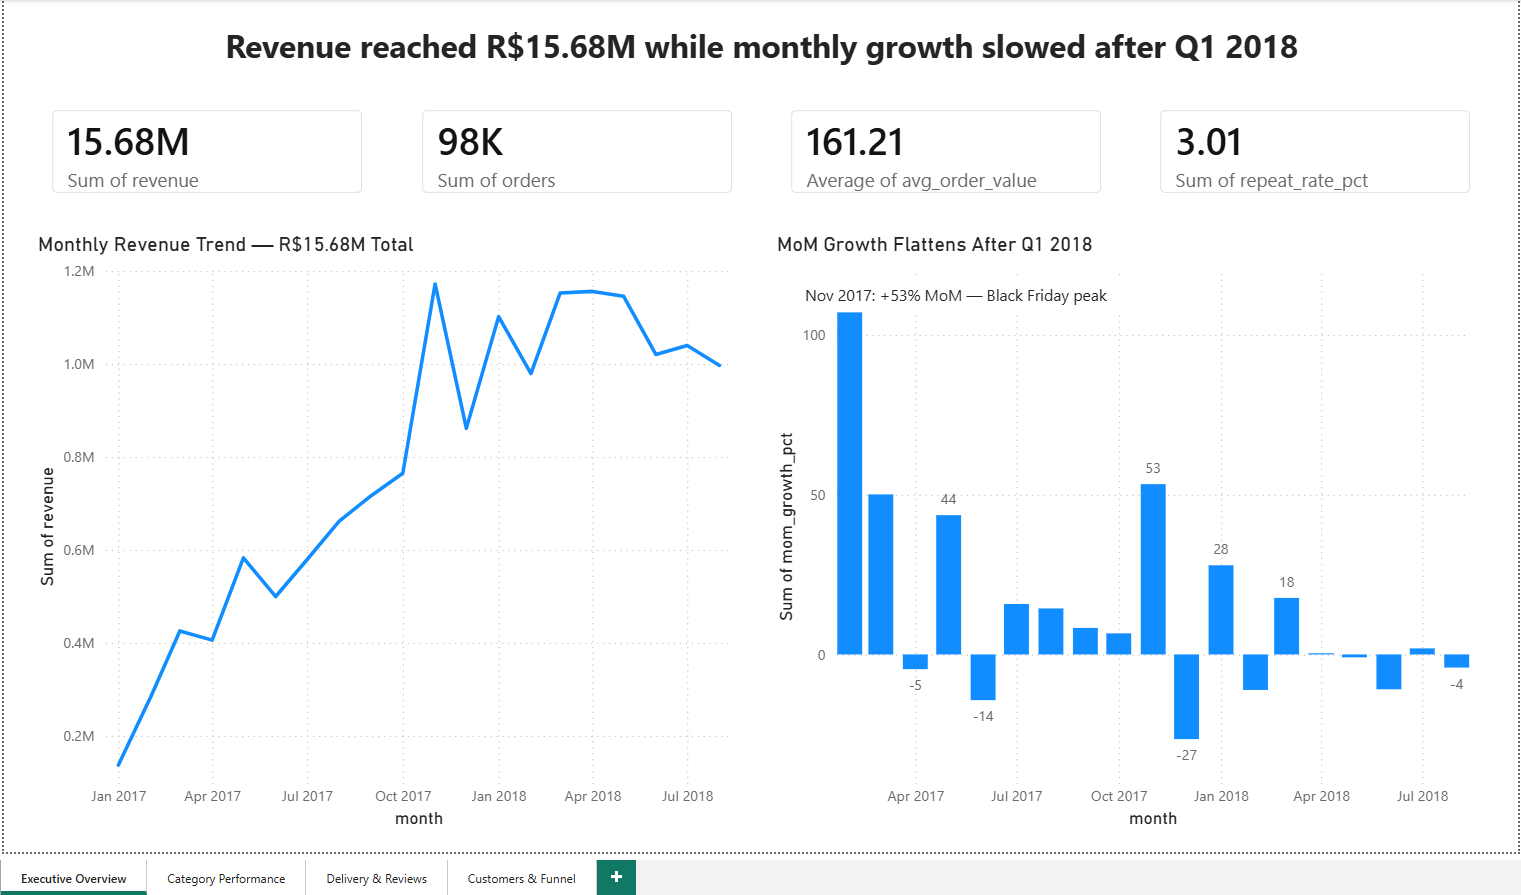

The dashboard page shown, as its layout file describes it:
{"tool":"powerbi","page":{"name":"Executive Overview","canvas":[1280,720],"ordinal":0},"visuals":[{"type":"cardVisual","fields":{"Data":["Sum(monthly_revenue.revenue)"]},"box":[24,76,296,104],"z":0},{"type":"cardVisual","fields":{"Data":["Sum(monthly_revenue.orders)"]},"box":[336,76,296,104],"z":1000},{"type":"cardVisual","fields":{"Data":["Avg(monthly_revenue.avg_order_value)"]},"box":[648,76,296,104],"z":2000},{"type":"cardVisual","fields":{"Data":["Sum(repeat_rate.repeat_rate_pct)"]},"box":[960,76,296,104],"z":3000},{"type":"lineChart","title":"Monthly Revenue Trend — R$15.68M Total","fields":{"Y":["Sum(monthly_revenue.revenue)"],"Category":["monthly_revenue.month"]},"box":[24,196,608,508],"z":4000},{"type":"clusteredColumnChart","title":"MoM Growth Flattens After Q1 2018","fields":{"Y":["Sum(monthly_revenue.mom_growth_pct)"],"Category":["monthly_revenue.month"]},"box":[648,196,608,508],"z":5000},{"type":"textbox","box":[24.3,15.6,1231.4,60.3],"z":6000},{"type":"textbox","box":[672,236,320,28],"z":7000}]}

Visuals, with their boxes on the page's 1280x720 design canvas (x1, y1, x2, y2). These are canvas units, not pixel positions in the 1521x895 screenshot, which may show the page scaled, cropped or inside an application window:
cardVisual - Sum(monthly_revenue.revenue): detection(24, 76, 320, 180)
cardVisual - Sum(monthly_revenue.orders): detection(336, 76, 632, 180)
cardVisual - Avg(monthly_revenue.avg_order_value): detection(648, 76, 944, 180)
cardVisual - Sum(repeat_rate.repeat_rate_pct): detection(960, 76, 1256, 180)
"Monthly Revenue Trend — R$15.68M Total" lineChart: detection(24, 196, 632, 704)
"MoM Growth Flattens After Q1 2018" clusteredColumnChart: detection(648, 196, 1256, 704)
textbox: detection(24, 16, 1256, 76)
textbox: detection(672, 236, 992, 264)
